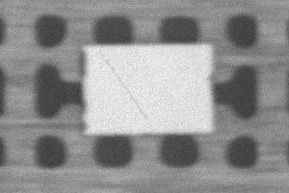DIE_CRACK: (148, 33, 220, 79)
